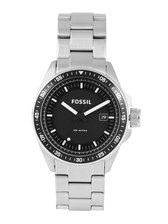watch: (35, 8, 145, 212)
